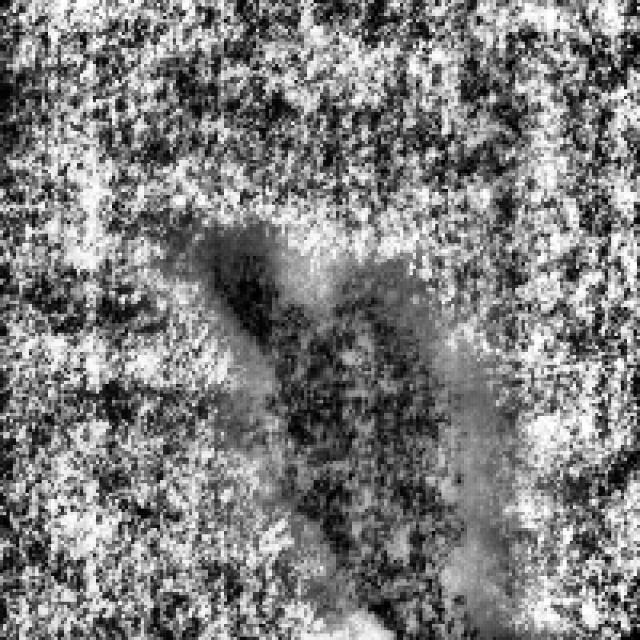Scratches: (198, 234, 484, 634)
